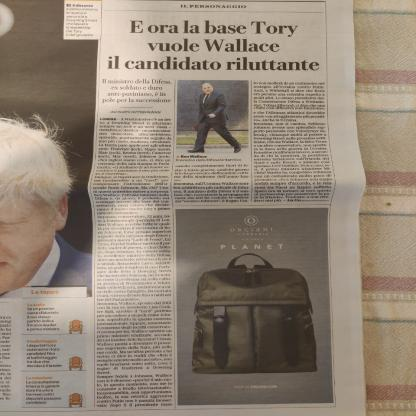immagine: (175, 207, 334, 406), (173, 77, 249, 157)
testo_col: (93, 112, 175, 411), (248, 77, 336, 205), (173, 164, 252, 205)
titolo: (100, 15, 326, 74)
